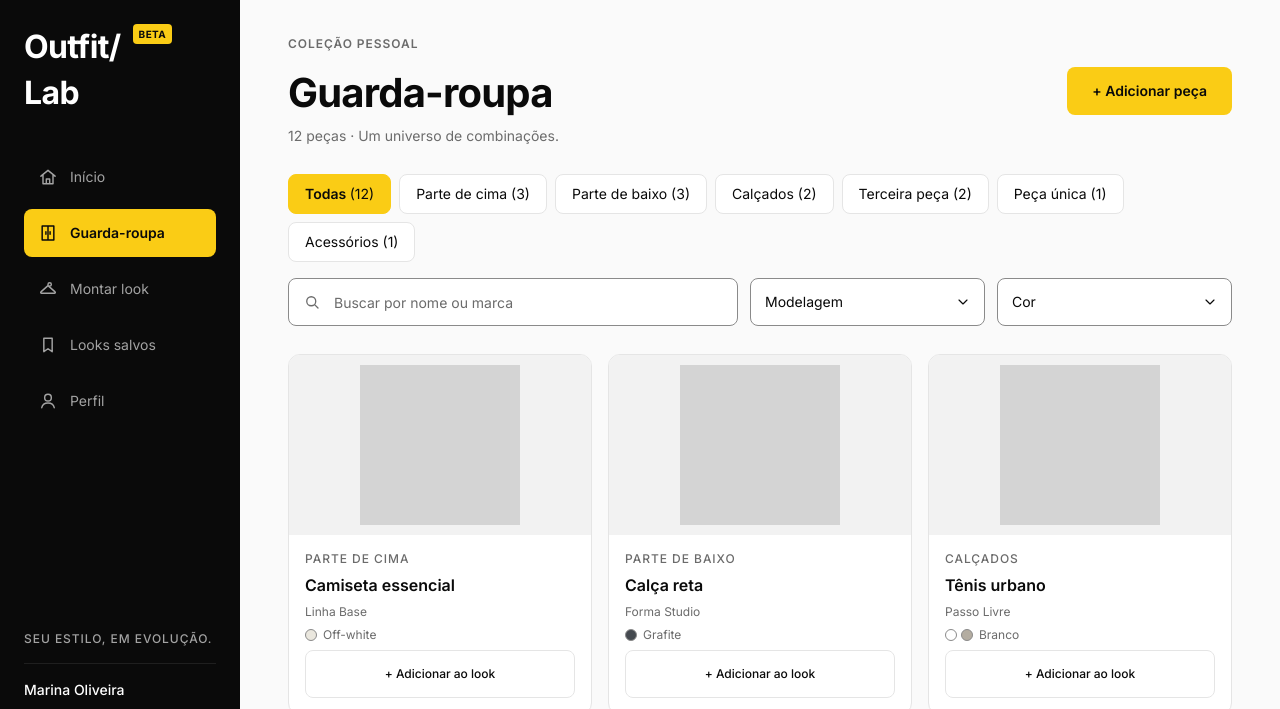
Scenario: TELA-03 Guarda-roupa › o "×" limpa a busca
The width and height of the screenshot is (1280, 709).
Type "jeans" into the search field named "Buscar peça" at (513, 302), box x1=288 y1=278 x2=738 y2=326
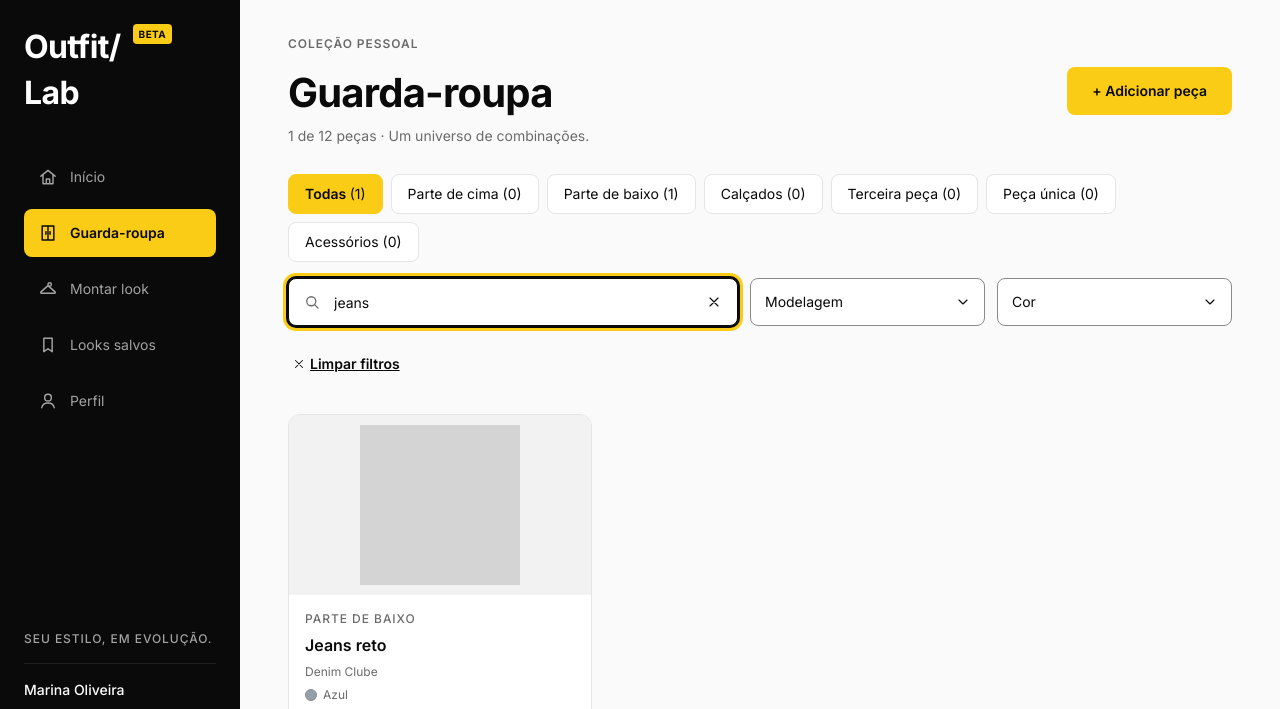
Click the button named "Limpar busca" at (714, 302), box x1=692 y1=280 x2=736 y2=324
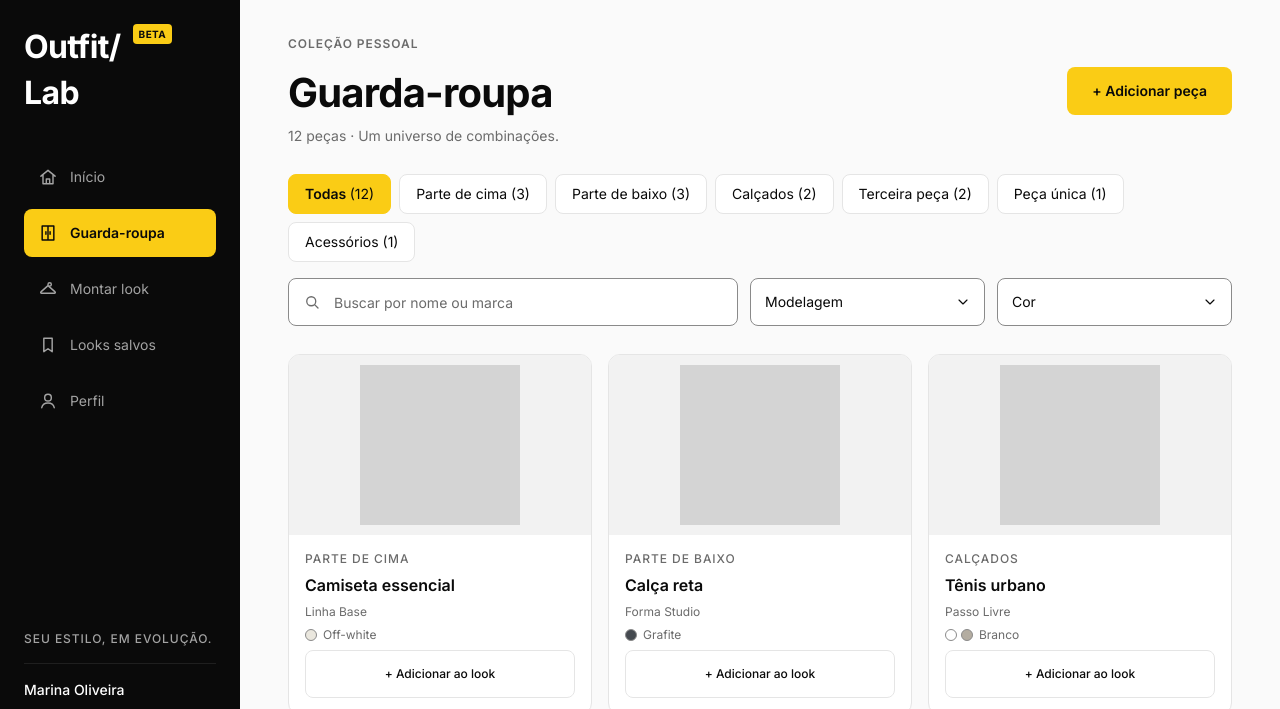
Now the search field named "Buscar peça" is empty, box x1=288 y1=278 x2=738 y2=326
